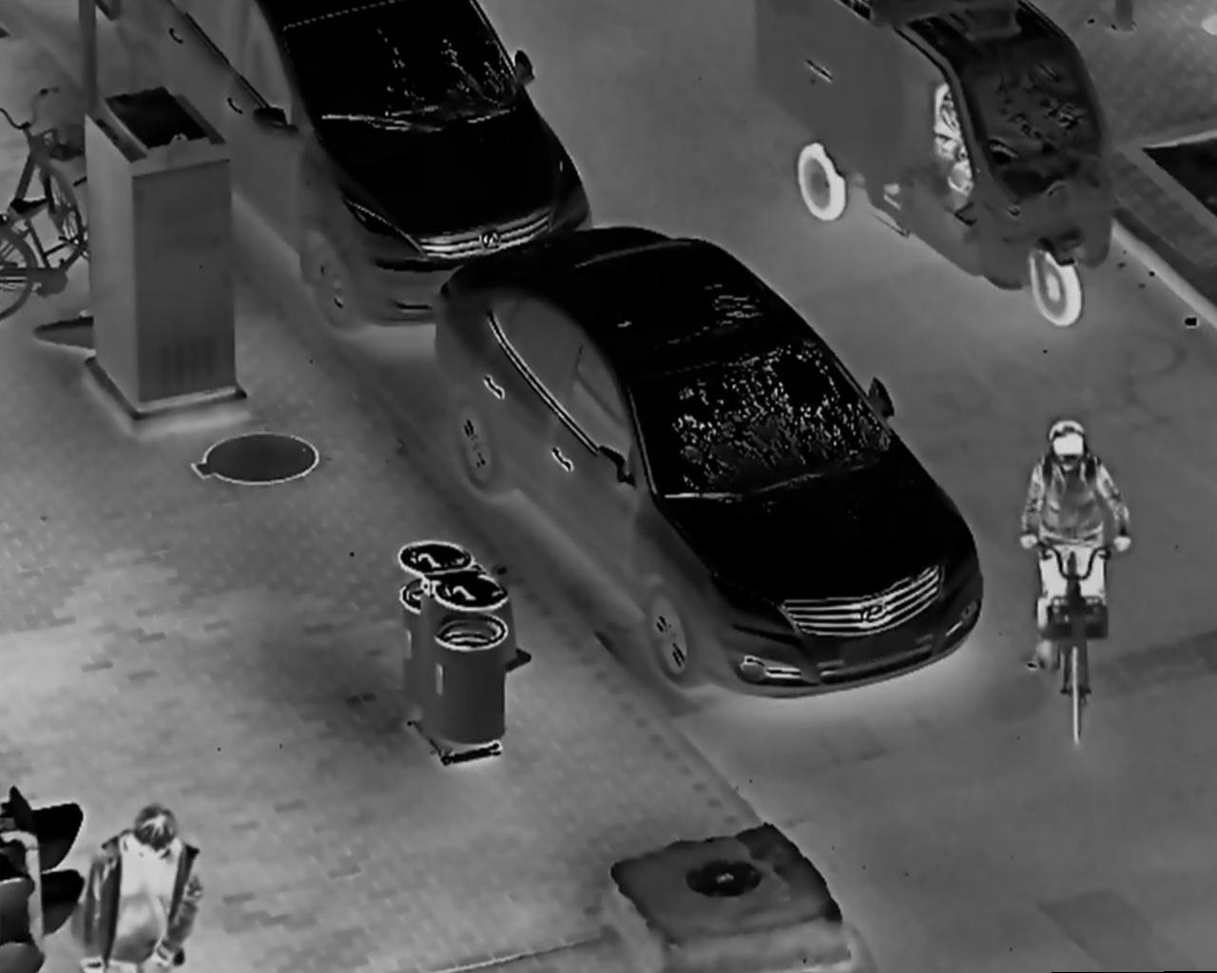person: (1021, 414, 1134, 707), (79, 799, 211, 973)
